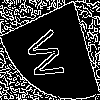W: (25, 24, 72, 86)
